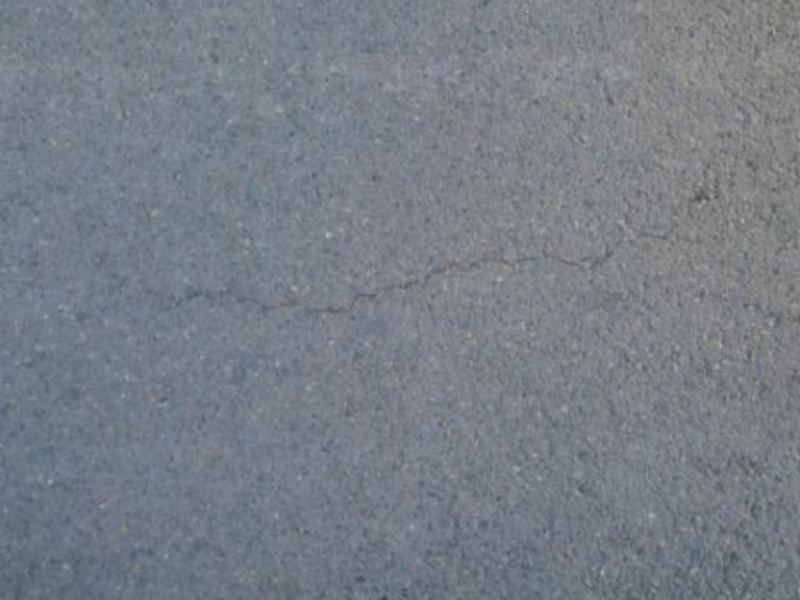crack: (166, 225, 620, 315)
